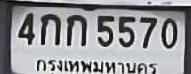0: (161, 17, 176, 48)
4: (17, 12, 34, 44)
5: (118, 15, 134, 47), (97, 15, 113, 46)
7: (139, 16, 156, 48)
A01: (40, 13, 60, 45), (66, 14, 86, 45)
BKK: (32, 55, 160, 74)
